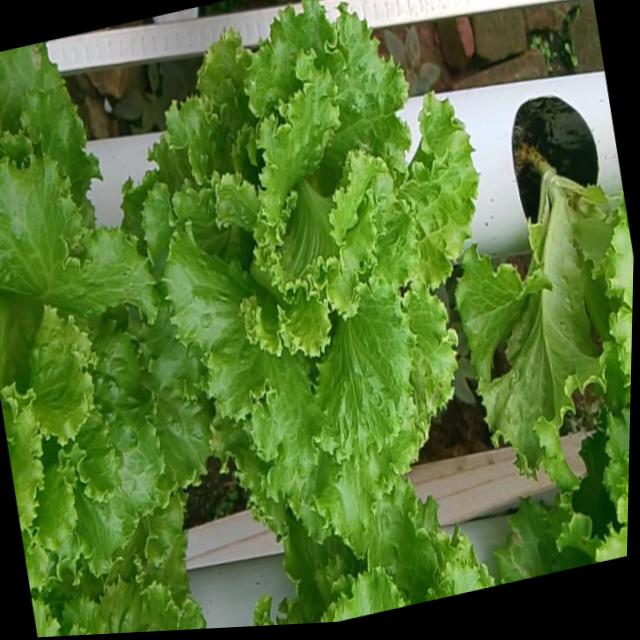Mature: (141, 1, 479, 542), (0, 144, 209, 573)
